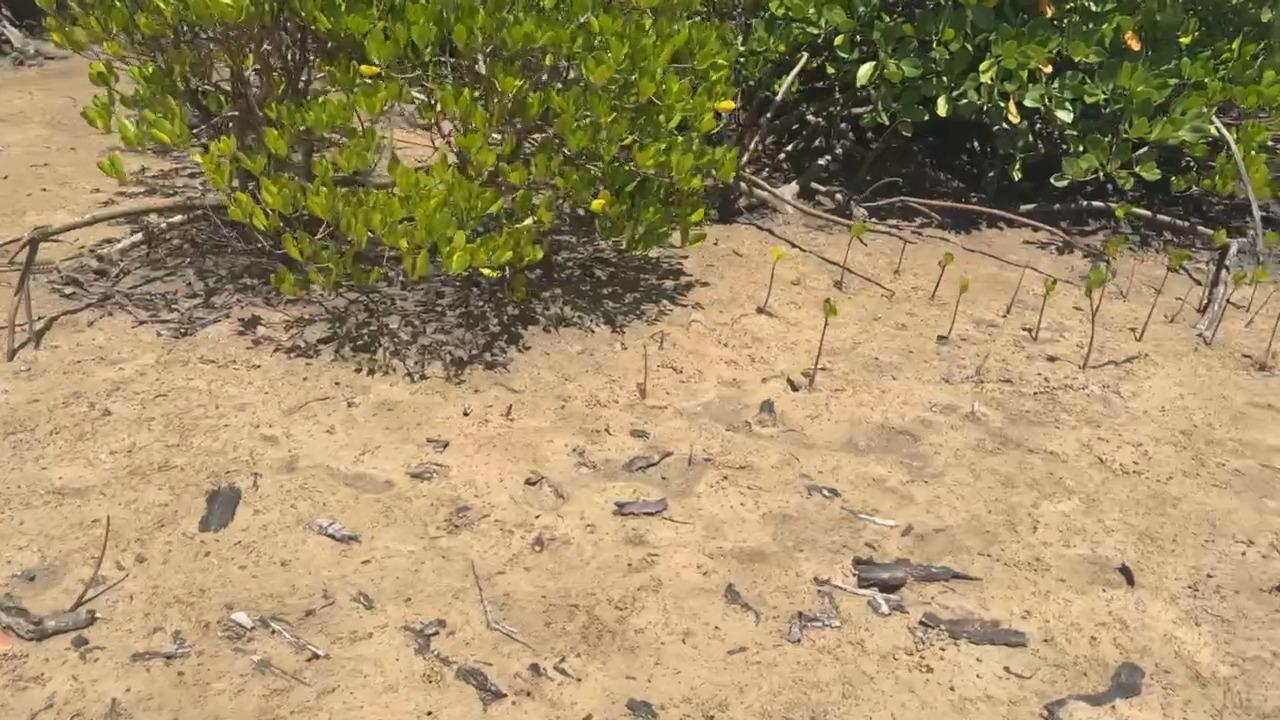Tree: (1137, 246, 1193, 342), (1084, 253, 1111, 367), (1209, 271, 1249, 344), (1199, 228, 1229, 310), (1095, 233, 1124, 315), (763, 246, 799, 307), (814, 298, 837, 376), (840, 223, 867, 289), (1246, 280, 1280, 329), (1035, 277, 1057, 340), (946, 276, 969, 336), (1248, 269, 1273, 314), (930, 252, 954, 298), (1006, 266, 1027, 312), (1264, 311, 1280, 351), (641, 345, 647, 397)
